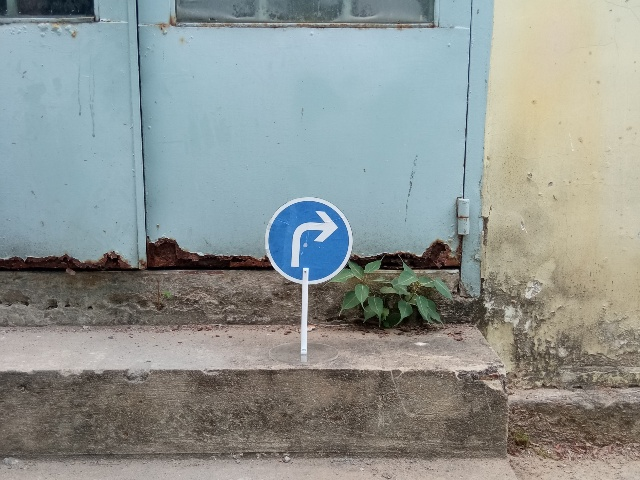Right_Sign: (264, 195, 353, 285)
